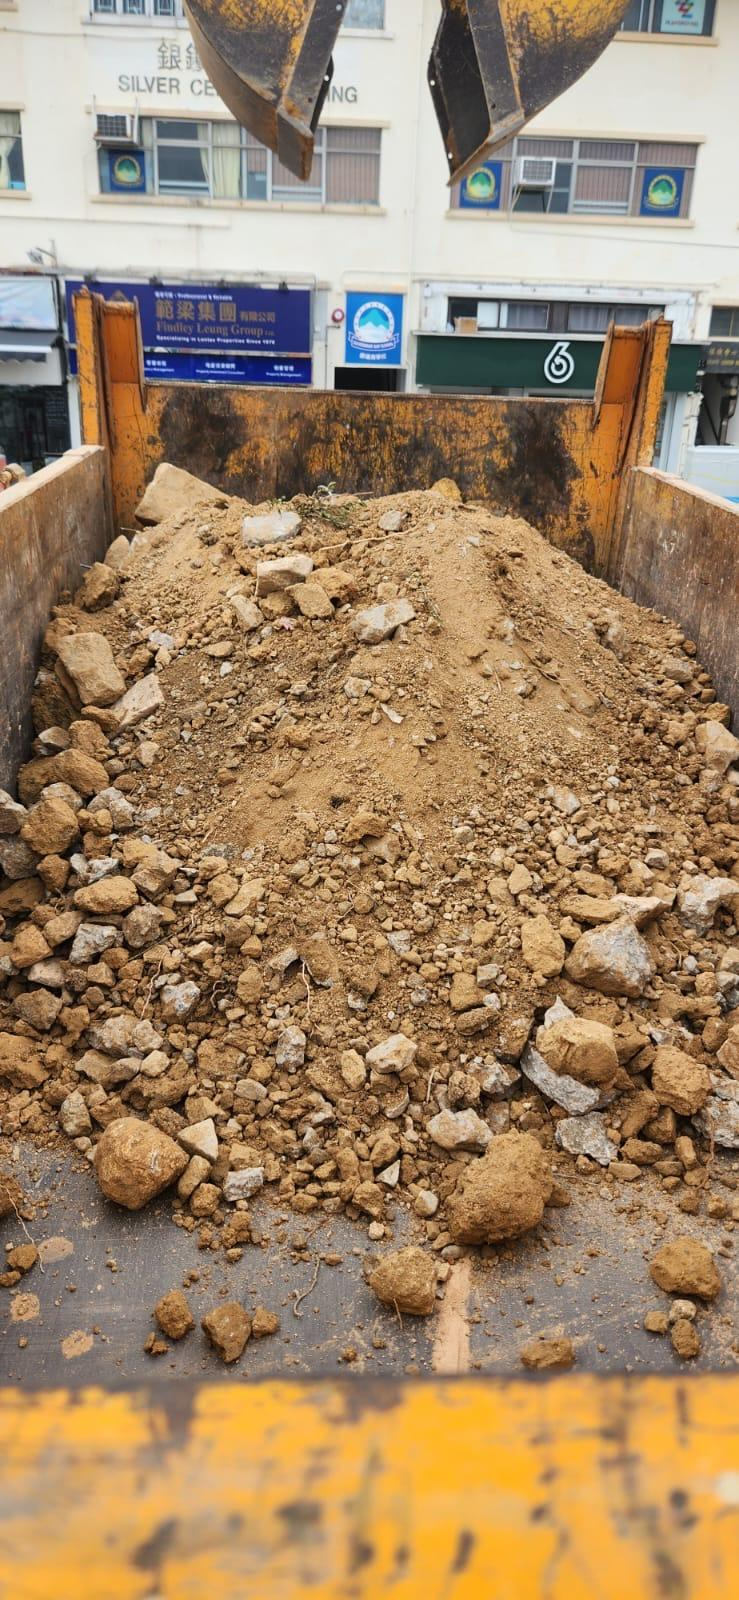dry: (130, 500, 607, 1145)
